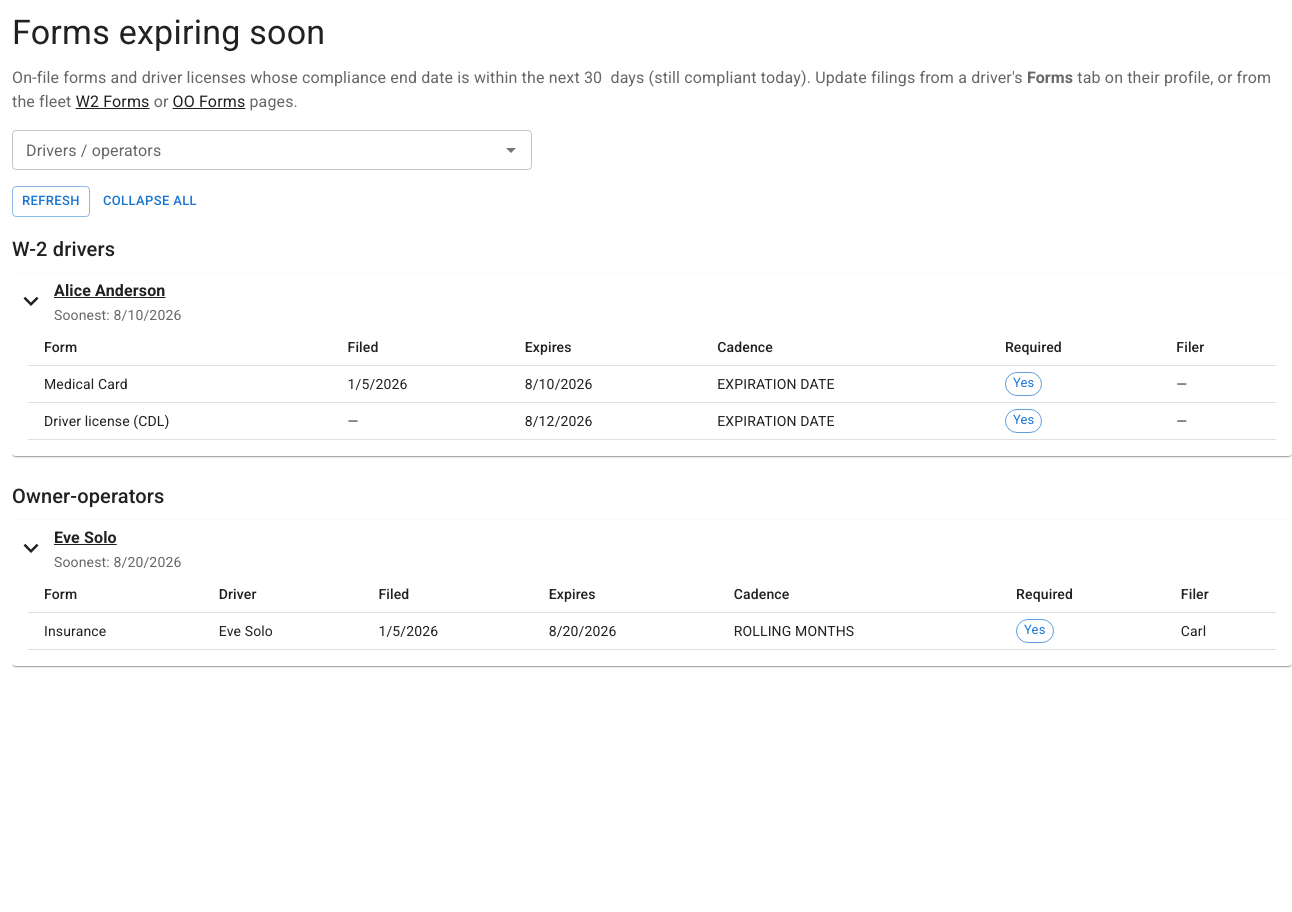
Test case: DriverFormsExpiringSoon › collapses a group and toggles all groups
Expected: the button "Collapse all" is shown, [98, 186, 202, 217]
Expected: the text "Medical Card" is shown, [28, 365, 332, 402]
Click the button without text next to "Alice Anderson": [31, 301] box [16, 286, 46, 316]
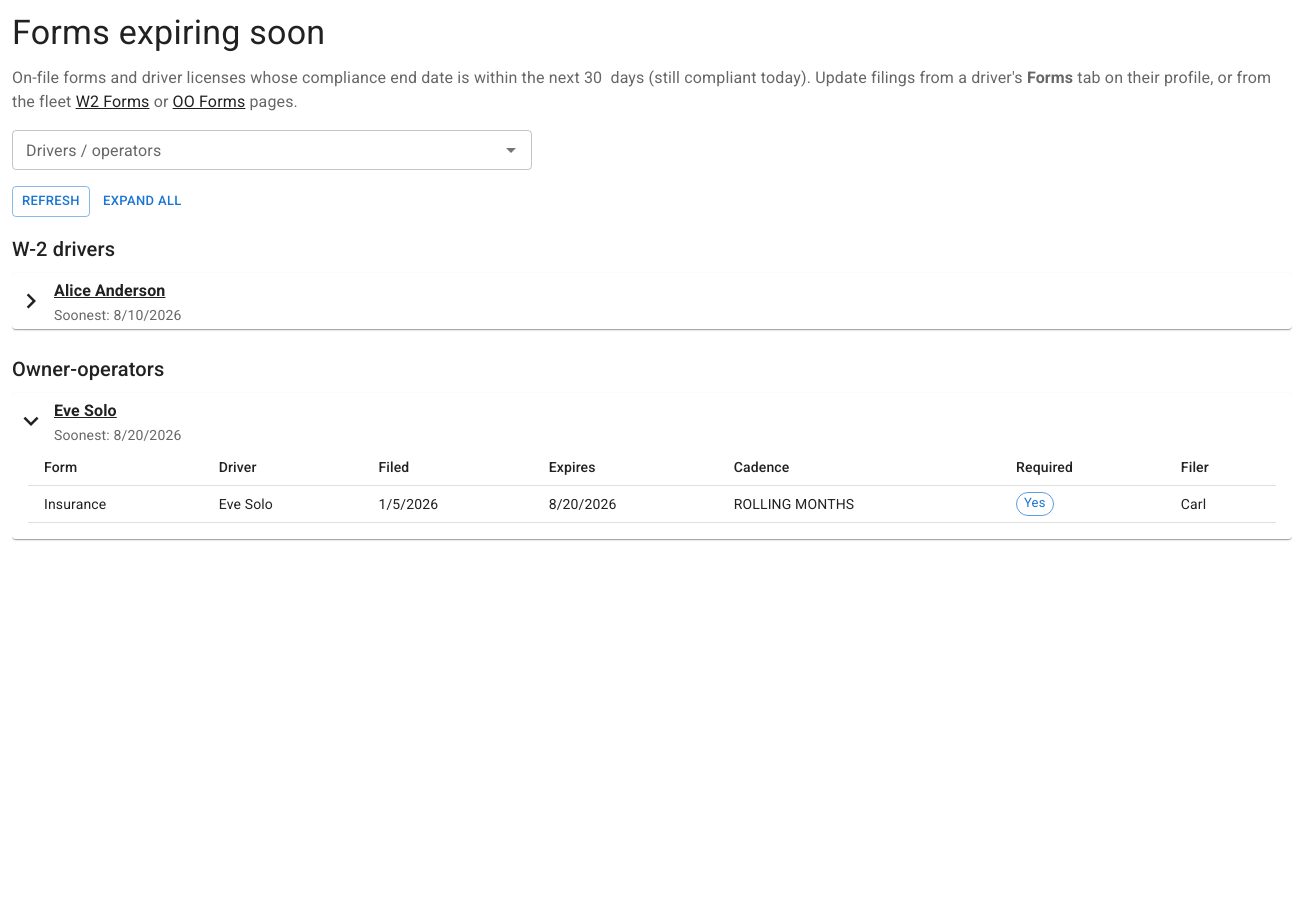
Expected: the text "Medical Card" is gone
Note: With one group collapsed the bulk toggle flips to "Expand all".
Click the button "Expand all": [142, 201] box [98, 186, 187, 217]
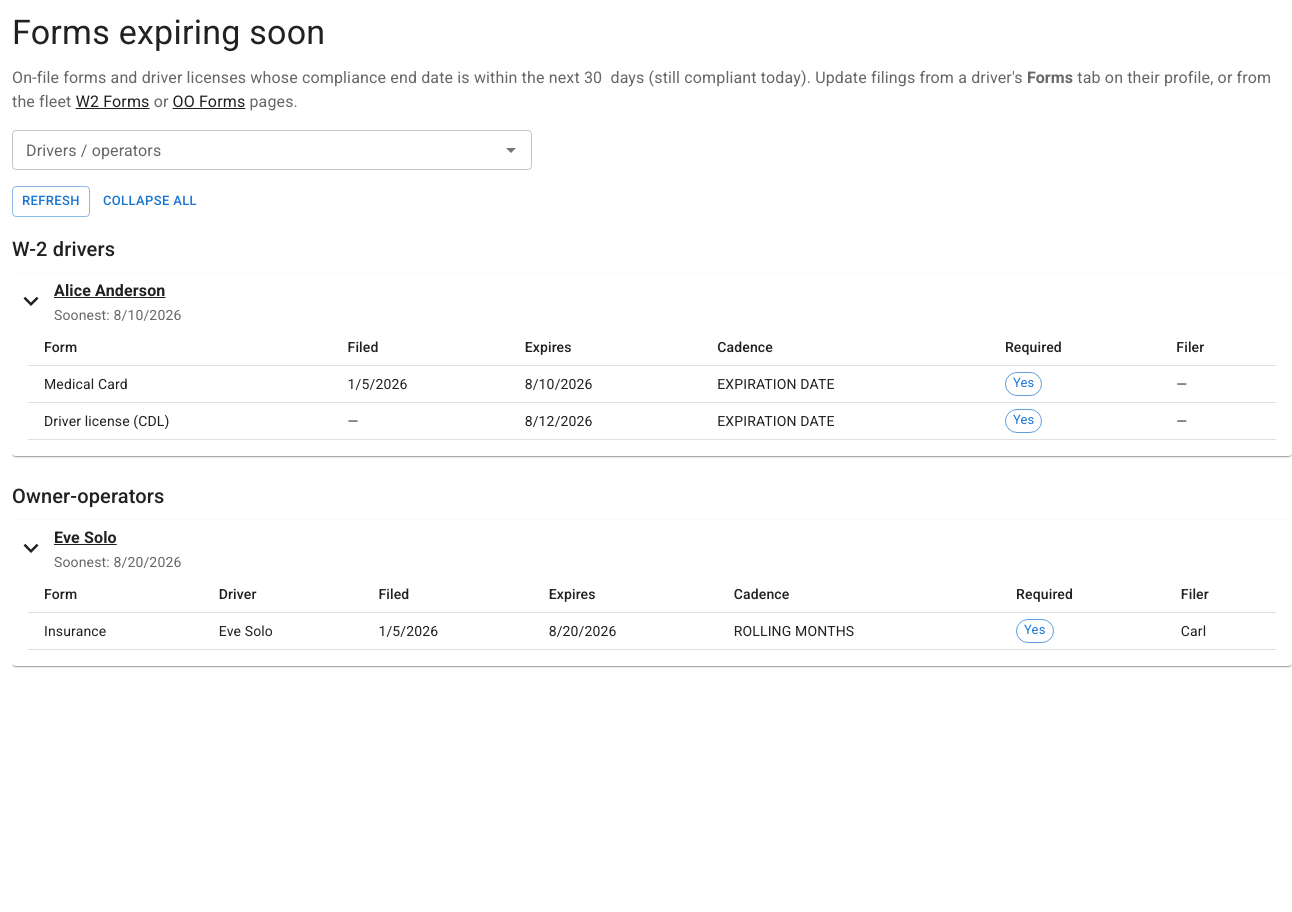
Expected: the text "Medical Card" is shown, [28, 365, 332, 402]
Click the button "Collapse all": [150, 201] box [98, 186, 202, 217]
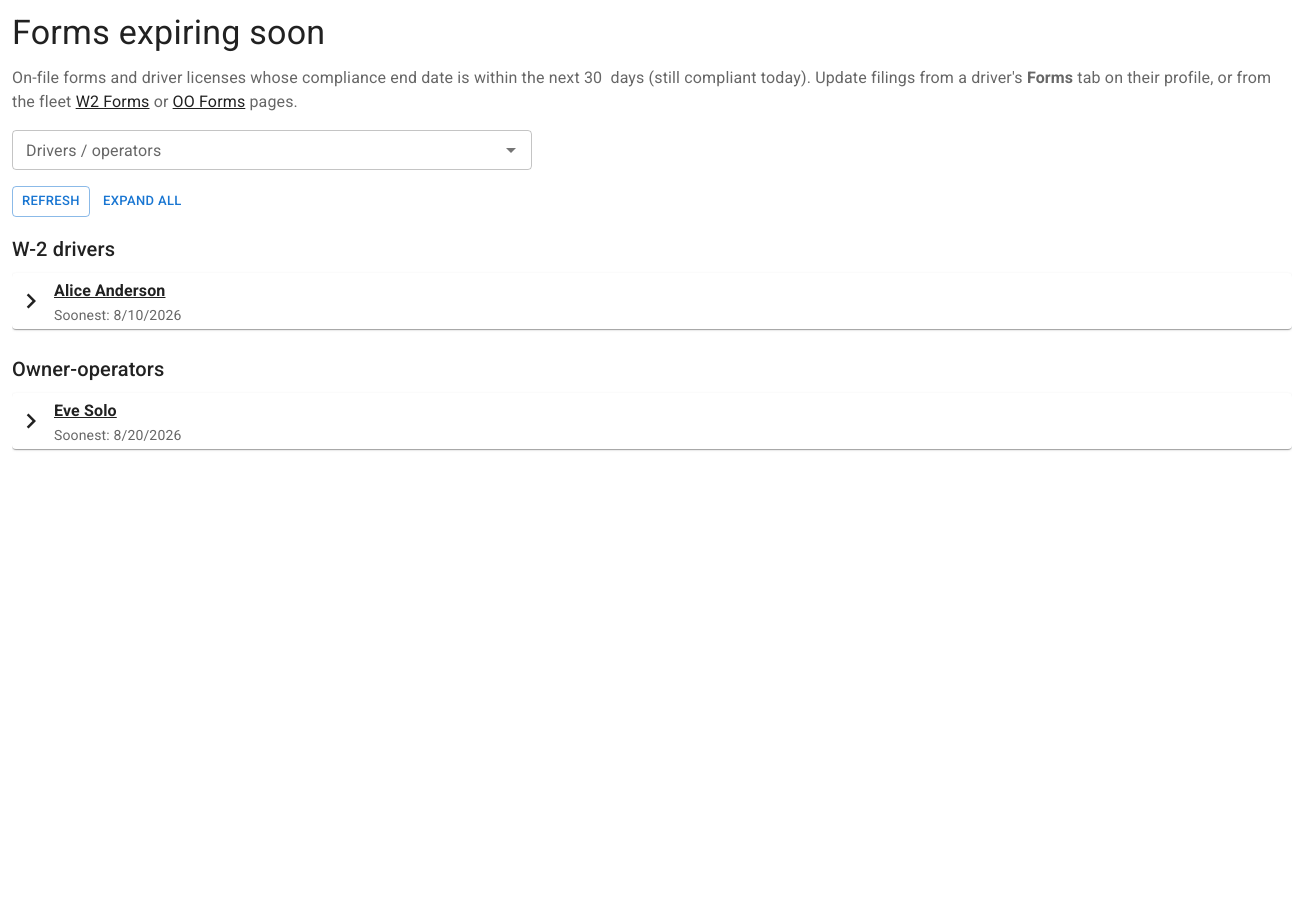
Expected: the text "Insurance" is gone
